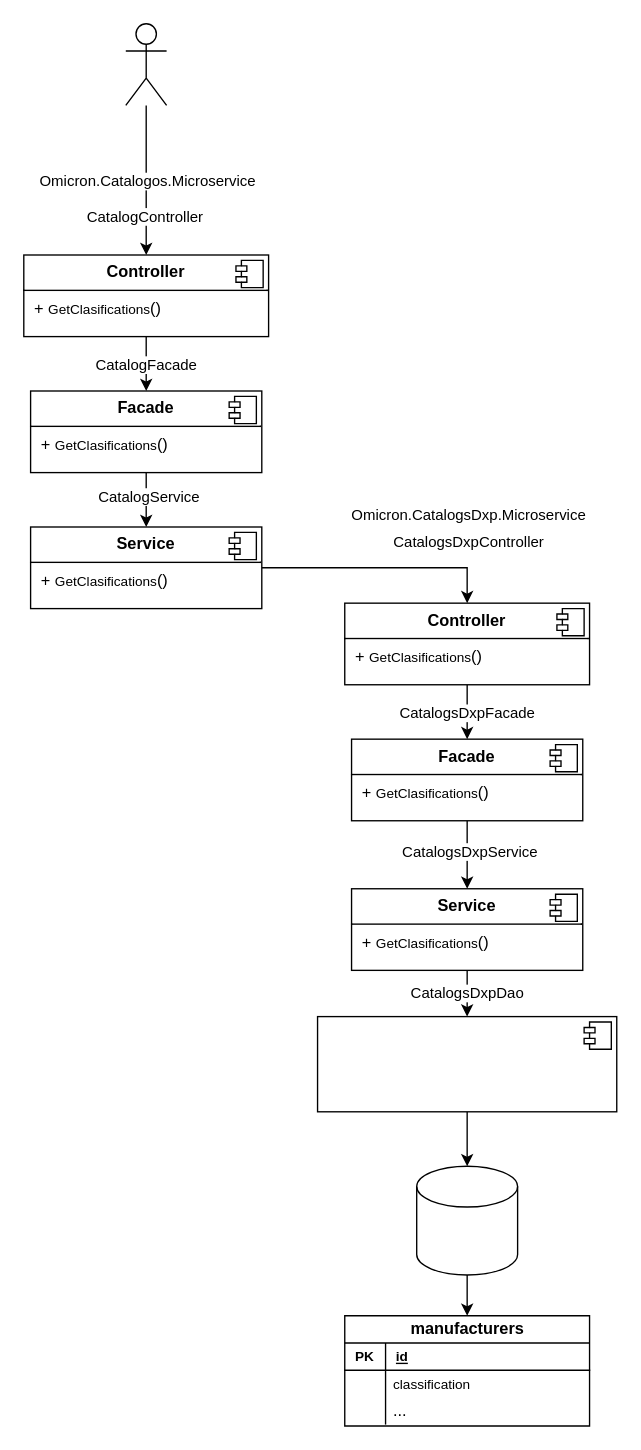
The diagram is 641 pixels wide and 1450 high, and some of its shapes have lost their labels. Each missing label, with the box of its shape:
Dao + GetClasifications (): (316, 1015, 617, 1112)
PostgreSQL: (415, 1165, 518, 1275)
Usuario: (124, 22, 167, 105)
